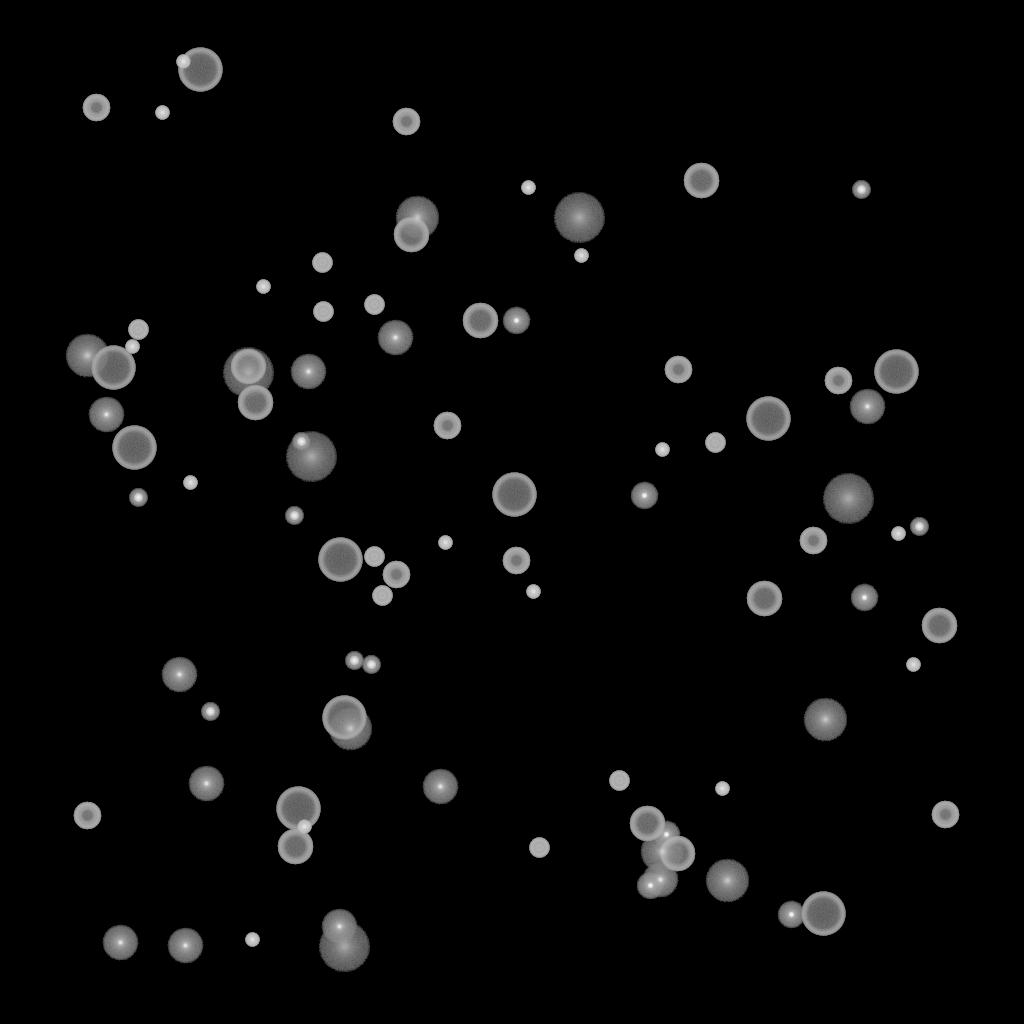depth:-10: (630, 482, 658, 510), (502, 307, 530, 335), (652, 821, 680, 849), (850, 584, 878, 612), (636, 872, 664, 900), (777, 901, 805, 929)
depth:-20: (910, 518, 928, 536), (285, 507, 303, 525), (201, 703, 219, 721), (362, 656, 380, 674), (292, 433, 310, 451), (345, 652, 363, 670), (129, 489, 147, 507), (852, 181, 870, 199)
depth:-30: (655, 443, 669, 457), (245, 933, 259, 947), (183, 476, 197, 490), (176, 55, 190, 69), (438, 536, 452, 550), (297, 820, 311, 834), (574, 249, 588, 263), (891, 527, 905, 541), (155, 106, 169, 120), (256, 280, 270, 294), (521, 181, 535, 195), (125, 340, 139, 354), (526, 585, 540, 599), (715, 782, 729, 796), (906, 658, 920, 672)
depth:-40: (312, 253, 332, 273), (705, 433, 725, 453), (128, 320, 148, 340), (364, 547, 384, 567), (372, 586, 392, 606), (313, 302, 333, 322), (529, 838, 549, 858), (364, 295, 384, 315), (609, 771, 629, 791)
depth:-50: (433, 412, 461, 440), (664, 356, 692, 384), (73, 802, 101, 830), (382, 561, 410, 589), (931, 801, 959, 829), (799, 527, 827, 555), (824, 367, 852, 395), (82, 94, 110, 122), (502, 547, 530, 575), (392, 108, 420, 136)
depth:-60: (393, 217, 429, 253), (230, 349, 266, 385), (277, 829, 313, 865), (683, 163, 719, 199), (462, 303, 498, 339), (746, 581, 782, 617), (629, 806, 665, 842), (237, 385, 273, 421), (659, 836, 695, 872), (921, 608, 957, 644)
depth:-70: (746, 397, 790, 441), (178, 48, 222, 92), (91, 346, 135, 390), (801, 892, 845, 936), (492, 473, 536, 517), (874, 350, 918, 394), (276, 787, 320, 831), (322, 696, 366, 740), (112, 426, 156, 470), (318, 538, 362, 582)
depth:0: (188, 766, 224, 802), (321, 909, 357, 945), (167, 928, 203, 964), (377, 320, 413, 356), (422, 769, 458, 805), (88, 397, 124, 433), (849, 389, 885, 425), (161, 657, 197, 693), (102, 925, 138, 961), (290, 354, 326, 390), (642, 862, 678, 898)
depth:10: (705, 859, 749, 903), (803, 698, 847, 742), (65, 334, 109, 378), (328, 707, 372, 751), (395, 196, 439, 240), (640, 830, 684, 874)
depth:20: (553, 193, 605, 243), (222, 348, 274, 398), (285, 432, 337, 482), (822, 474, 874, 524), (318, 922, 370, 972)
